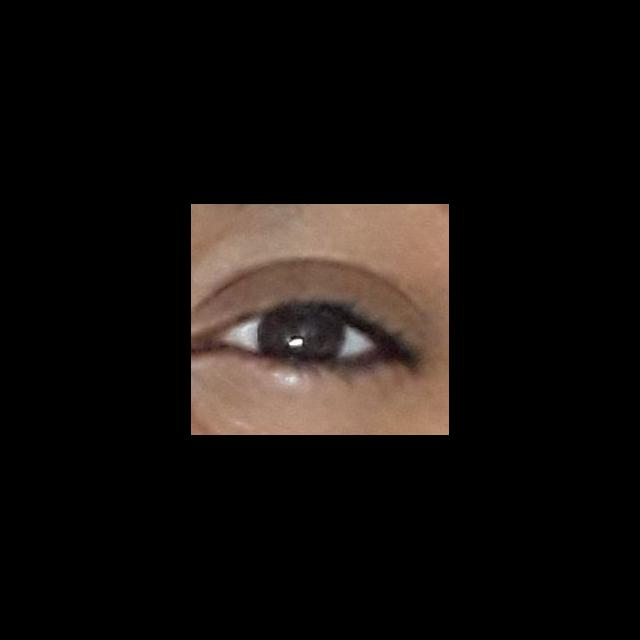eye: (230, 310, 379, 361)
iris: (261, 310, 343, 359)
